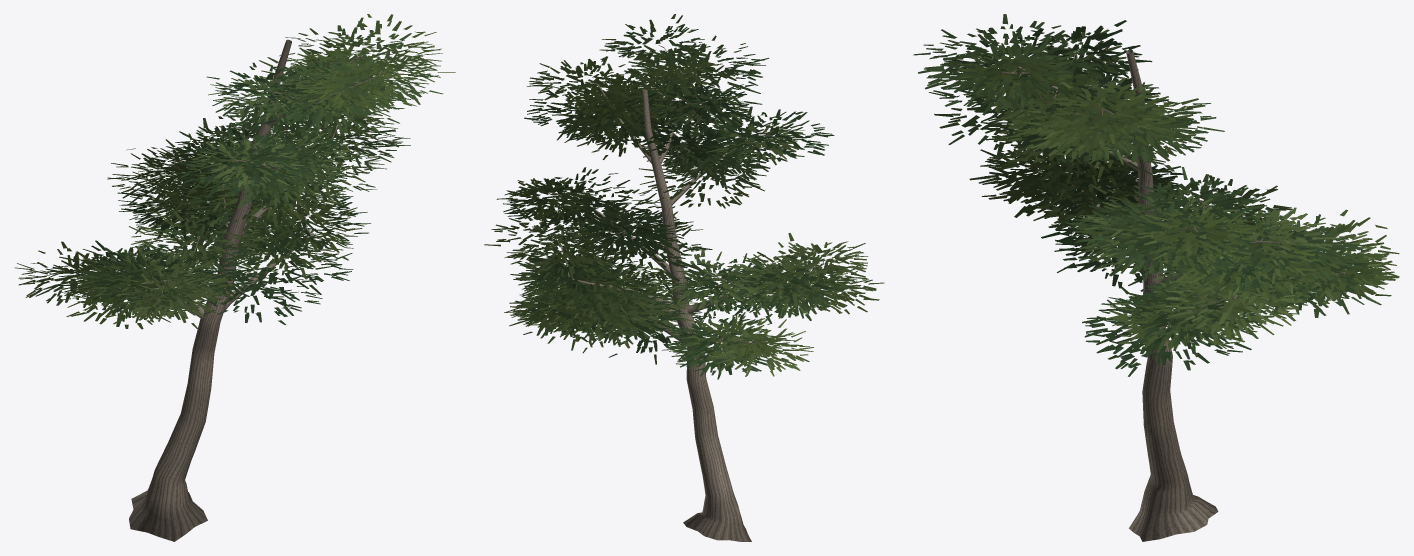
File: avc.glb
The picture shows the model from 3 angles, left to right: view 1: azimuth 30°, elevation 25°; view 2: azimuth 150°, elevation 25°; view 3: azimuth 270°, elevation 25°; orthographic projection. The views are drawn at different scales.
Visible parts, largest first — view 1: avc_lod0_1, avc_lod0_0; view 2: avc_lod0_1, avc_lod0_0; view 3: avc_lod0_1, avc_lod0_0.
Boxes of the visible parts, x1,y1,x2,y2 form: avc_lod0_1: [14, 14, 455, 329]; avc_lod0_0: [78, 39, 381, 541]; avc_lod0_1: [484, 14, 884, 379]; avc_lod0_0: [547, 45, 824, 541]; avc_lod0_1: [913, 14, 1399, 376]; avc_lod0_0: [1000, 49, 1345, 541].
Size of what is drawn, in the model's own units: 21.06 by 25.88 by 20.39.
2 materials, 1 textured.
